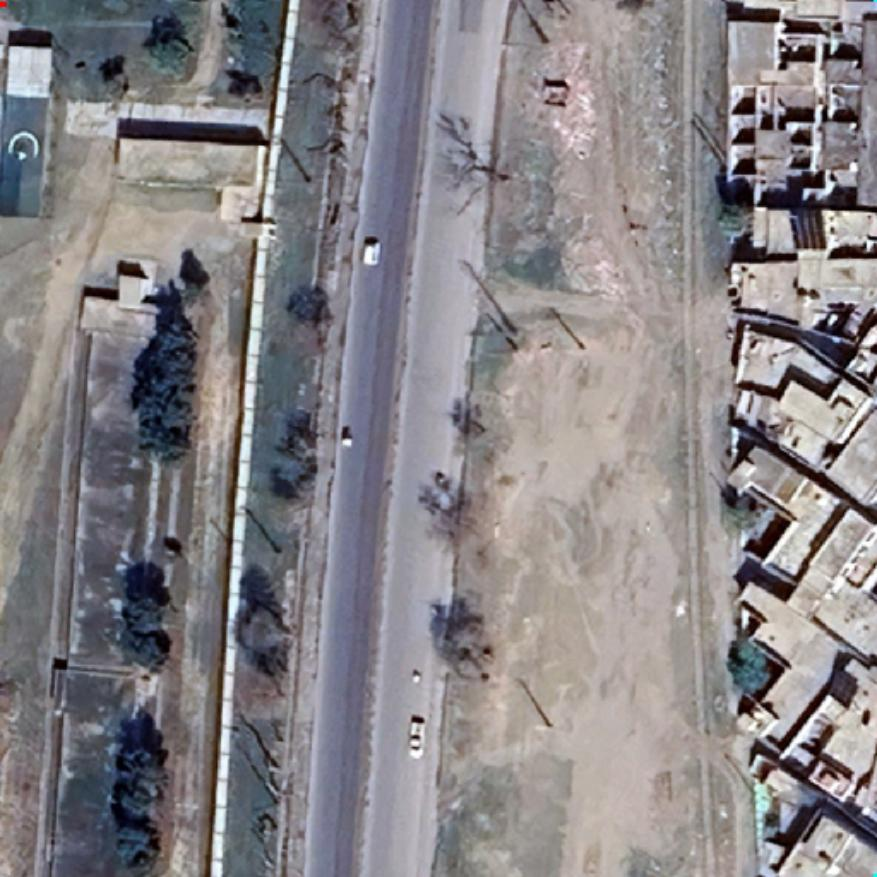Solarpanel: (787, 204, 831, 254)
